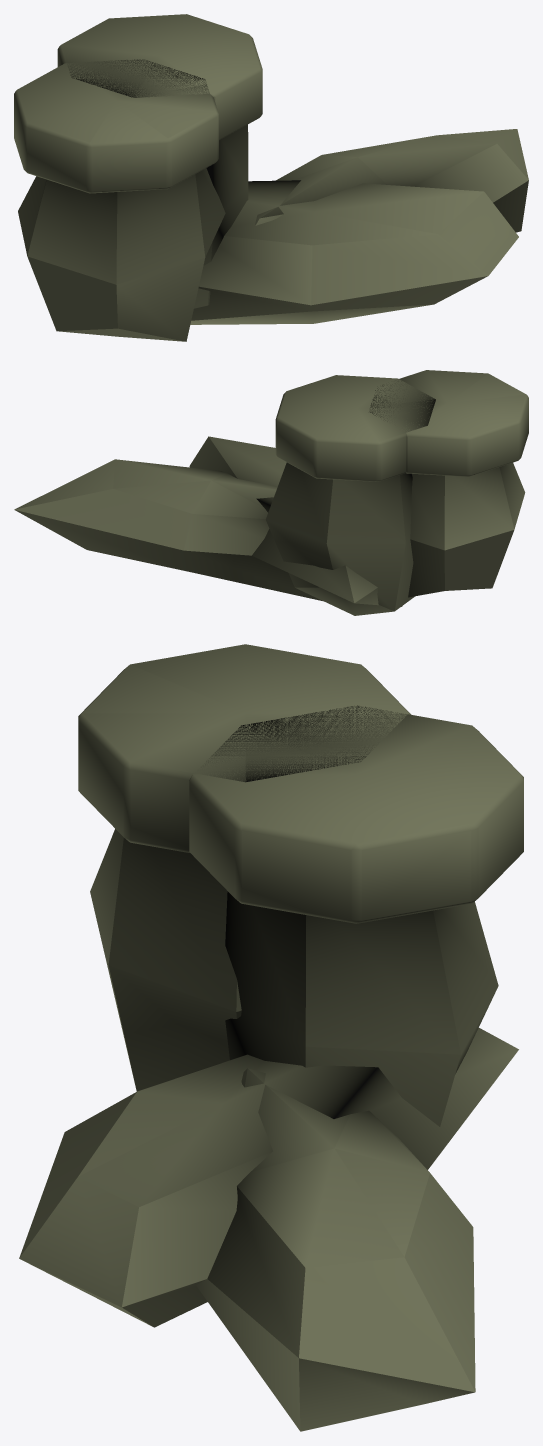
Rendered from sock_pair.glb.
3 renders of one model, top to bottom at view 1: azimuth 30°, elevation 25°; view 2: azimuth 150°, elevation 25°; view 3: azimuth 270°, elevation 25°, orthographic. The views are drawn at different scales.
Parts seen in each view (by area): view 1: sock_pair; view 2: sock_pair; view 3: sock_pair.
Part boxes in pixels (x1,y1,x2,y2): sock_pair: (14,14,528,341); sock_pair: (14,370,528,615); sock_pair: (19,644,523,1431).
Size of the model in its own units: 0.1865 by 0.0835 by 0.0909.
